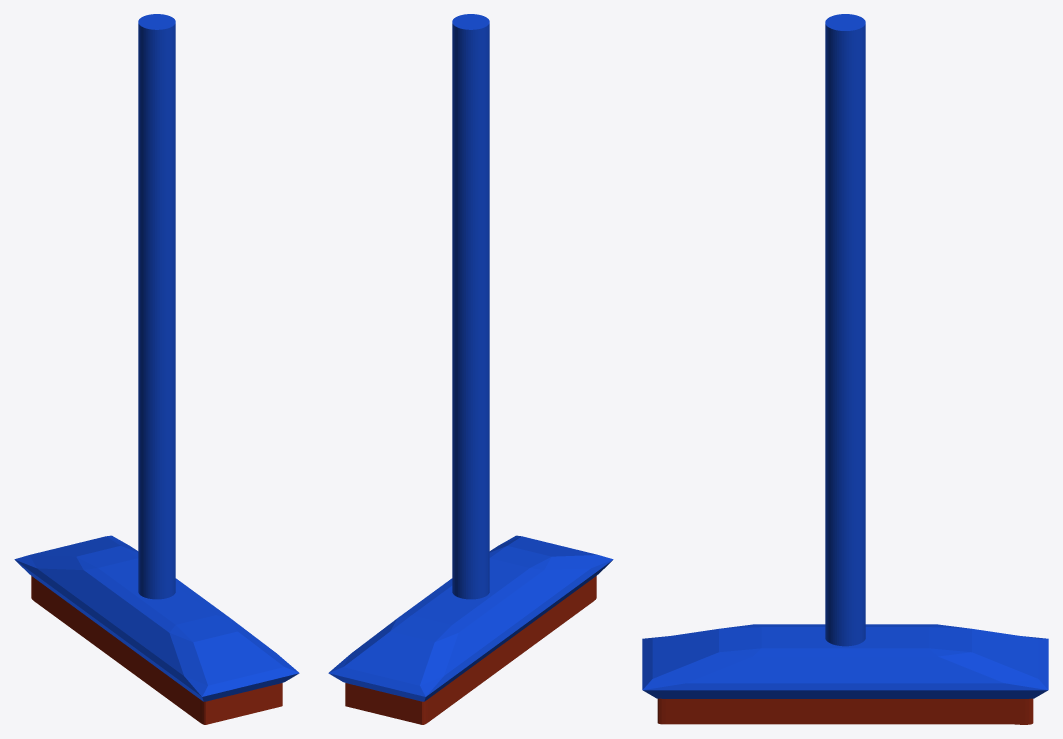
The model's file is Brush.fbx.
3 renders of one model, left to right at view 1: azimuth 30°, elevation 25°; view 2: azimuth 150°, elevation 25°; view 3: azimuth 270°, elevation 25°, orthographic. The views are drawn at different scales.
Visible parts, largest first — view 1: Cylinder; view 2: Cylinder; view 3: Cylinder.
Boxes of the visible parts, left/top/right/bottom form: Cylinder: left=14, top=14, right=299, bottom=724; Cylinder: left=328, top=14, right=613, bottom=724; Cylinder: left=642, top=14, right=1048, bottom=724.
Bounding box in the file's own units: 60 × 370 × 200.
